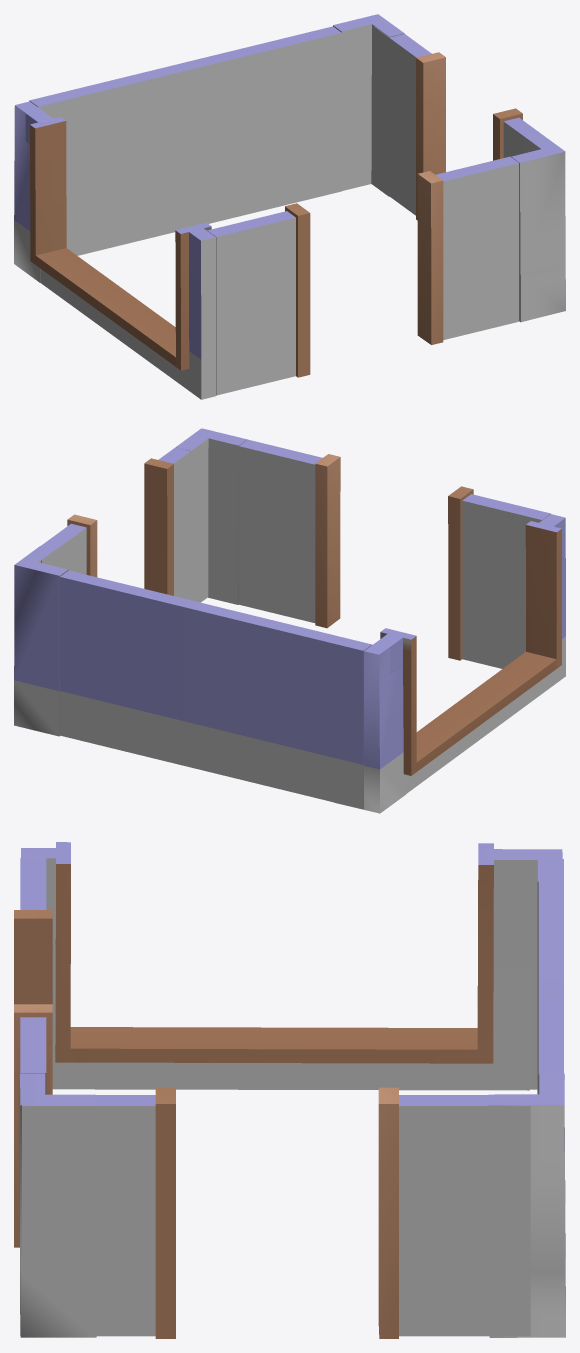
The model's file is dormitorio.fbx.
The picture shows the model from 3 angles, top to bottom: view 1: azimuth 30°, elevation 25°; view 2: azimuth 150°, elevation 25°; view 3: azimuth 270°, elevation 25°; orthographic projection. The views are drawn at different scales.
Visible parts, largest first — view 1: paret_basica30, paret_puerta57, paret_con_ventana_grande28, paret_puerta56, paret_esquina_91, paret_esquina_90, paret_esquina44; view 2: paret_basica30, paret_puerta57, paret_con_ventana_grande28, paret_puerta56, paret_esquina_90, paret_esquina44, paret_esquina_91; view 3: paret_puerta56, paret_con_ventana_grande28, paret_esquina_90, paret_puerta57, paret_esquina_91, paret_esquina44, paret_basica30.
Part boxes in pixels (left/top/right/bottom): paret_basica30: left=29, top=26, right=342, bottom=255; paret_puerta57: left=207, top=156, right=519, bottom=395; paret_con_ventana_grande28: left=25, top=113, right=215, bottom=399; paret_puerta56: left=374, top=27, right=565, bottom=220; paret_esquina_91: left=511, top=132, right=565, bottom=322; paret_esquina_90: left=333, top=14, right=404, bottom=196; paret_esquina44: left=14, top=100, right=68, bottom=282; paret_basica30: left=60, top=570, right=372, bottom=809; paret_puerta57: left=239, top=439, right=550, bottom=668; paret_con_ventana_grande28: left=380, top=514, right=565, bottom=793; paret_puerta56: left=41, top=429, right=208, bottom=602; paret_esquina_90: left=14, top=546, right=68, bottom=736; paret_esquina44: left=336, top=632, right=406, bottom=813; paret_esquina_91: left=176, top=428, right=247, bottom=604; paret_puerta56: left=22, top=1087, right=530, bottom=1338; paret_con_ventana_grande28: left=21, top=842, right=529, bottom=1090; paret_esquina_90: left=488, top=1072, right=565, bottom=1337; paret_puerta57: left=14, top=858, right=52, bottom=1247; paret_esquina_91: left=20, top=1073, right=96, bottom=1337; paret_esquina44: left=486, top=849, right=562, bottom=1094; paret_basica30: left=538, top=859, right=563, bottom=1093.
Bounding box in the file's own units: 821 × 340 × 718.
